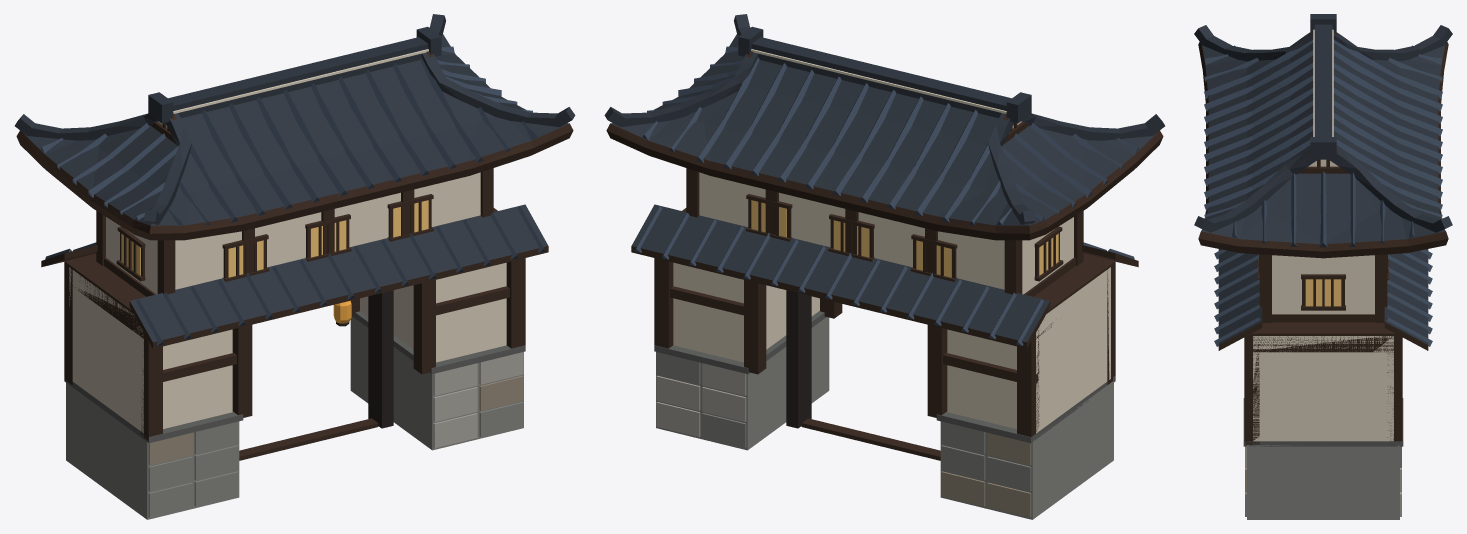
Rendered from wall_gate.fbx.
3 views of the same model, side by side, from view 1: azimuth 30°, elevation 25°; view 2: azimuth 150°, elevation 25°; view 3: azimuth 270°, elevation 25° (orthographic). The views are drawn at different scales.
Parts seen in each view (by area): view 1: wall_gate; view 2: wall_gate; view 3: wall_gate.
Boxes of the visible parts, x1,y1,x2,y2 form: wall_gate: [15, 14, 575, 519]; wall_gate: [604, 14, 1164, 519]; wall_gate: [1194, 14, 1452, 519].
Size of the model in its own units: 9.17 by 7.68 by 5.07.
